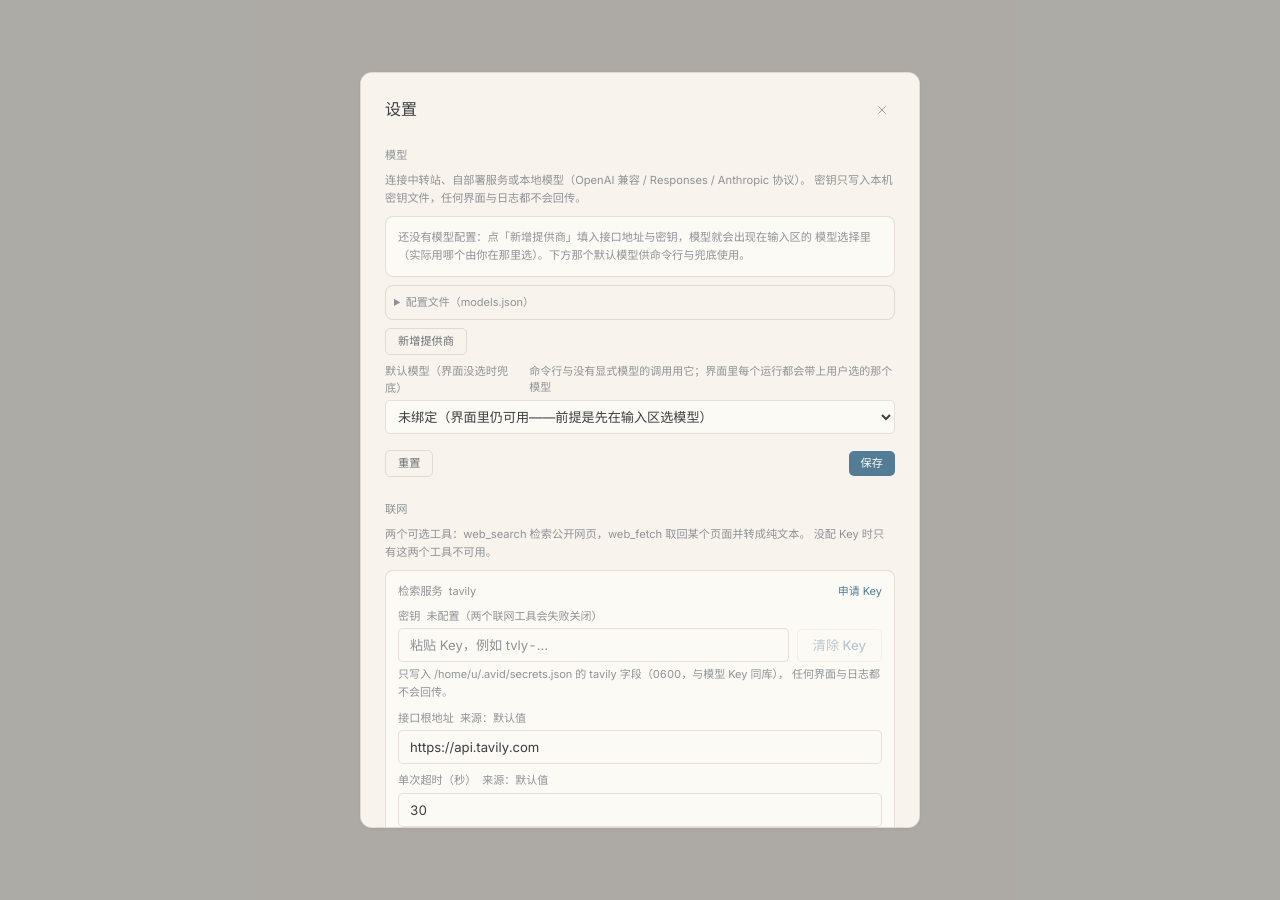
Test: 还没有配置文件时说明它会在第一次保存后出现
Click the heading "配置文件（models.json）" at (470, 302), box [406, 296, 534, 310]
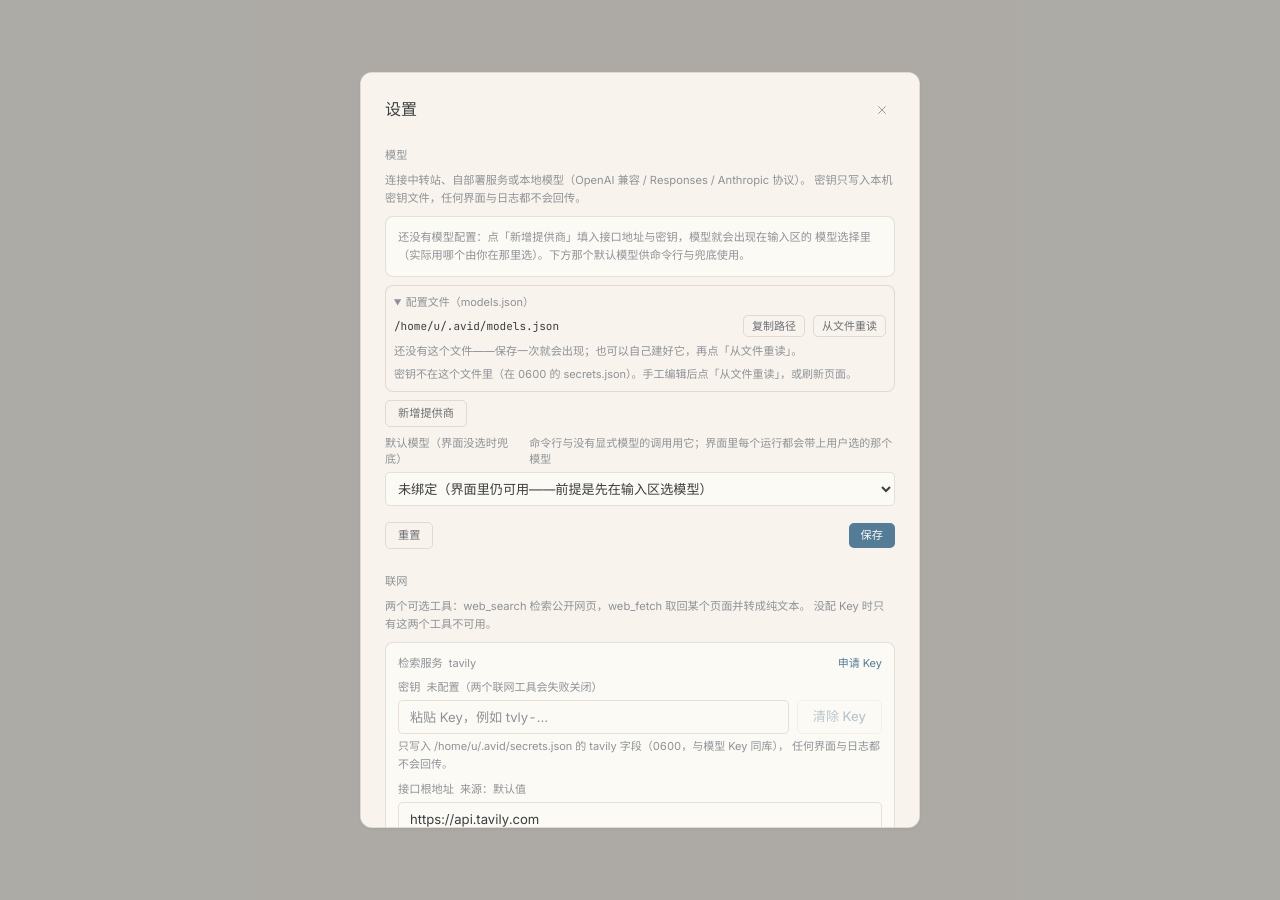
Expected: the text "还没有这个文件——保存一次就会出现；也可以自己建好它，再点「从文件重读」。" is shown, [394, 344, 802, 358]
